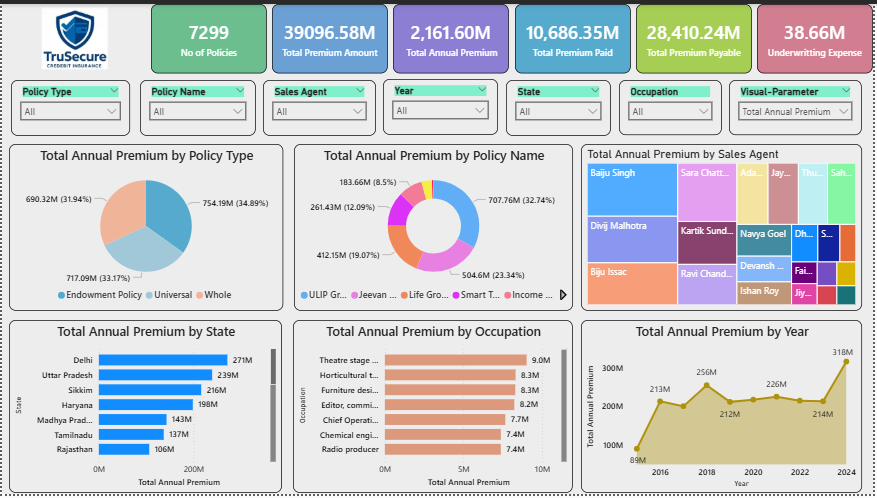

The dashboard page shown, as its layout file describes it:
{"tool":"powerbi","page":{"name":"Insurence Overview","canvas":[1280,720],"ordinal":1},"visuals":[{"type":"card","fields":{"Values":["DM Customer_Detail_Table.Customer ID"]},"box":[218.3,0,170,101.7],"z":0},{"type":"card","fields":{"Values":["FCT Insurance_Policy_Table.Total Annual Premium"]},"box":[575,0,170,101.7],"z":1000},{"type":"card","fields":{"Values":["FCT Insurance_Policy_Table.Total Premium Amount"]},"box":[396.7,0,170,101.7],"z":2000},{"type":"card","fields":{"Values":["FCT Insurance_Policy_Table.Total Premium Paid"]},"box":[753.3,0,170,101.7],"z":3000},{"type":"card","fields":{"Values":["FCT Insurance_Policy_Table.Total Premium Payable"]},"box":[931.7,0,170,101.7],"z":4000},{"type":"card","fields":{"Values":["FCT Insurance_Policy_Table.Underwritting Expense"]},"box":[1110,0,170,101.7],"z":5000},{"type":"slicer","fields":{"Values":["DM Policy_Protection_Plan.Policy Name"]},"box":[202.8,111.7,170.4,82.3],"z":6000},{"type":"slicer","fields":{"Values":["DM Policy_Type.Policy Type"]},"box":[13.2,111.7,174.9,82.3],"z":7000},{"type":"slicer","fields":{"Values":["FCT Insurance_Policy_Table.Start Date.Variation.Date Hierarchy.Year"]},"box":[559.8,110.2,169,82.3],"z":8000},{"type":"slicer","fields":{"Values":["DM Insurance_Agent_Table.Sales Agent"]},"box":[383.5,111.7,166,82.3],"z":9000},{"type":"slicer","fields":{"Values":["DM Customer_Detail_Table.State"]},"box":[740.6,111.7,154.3,82.3],"z":10000},{"type":"slicer","fields":{"Values":["DM Customer_Detail_Table.Occupation"]},"box":[906.6,111.7,151.3,80.8],"z":11000},{"type":"image","box":[10.3,0,194,101.4],"z":12000},{"type":"pieChart","title":"Total Annual Premium by Policy Type","fields":{"Y":["FCT Insurance_Policy_Table.Total Annual_Premium"],"Category":["DM Policy_Type.Policy Type"]},"box":[10.3,205.7,402.6,245.4],"z":13000},{"type":"donutChart","title":"Total Annual Premium by Policy Name","fields":{"Y":["FCT Insurance_Policy_Table.Total Annual_Premium"],"Category":["DM Policy_Protection_Plan.Policy Name"]},"box":[429.1,205.7,410,245.4],"z":14000},{"type":"treemap","title":"Total Annual Premium by Sales Agent","fields":{"Values":["FCT Insurance_Policy_Table.Total Annual_Premium"],"Group":["DM Insurance_Agent_Table.Sales Agent"]},"box":[850.8,205.7,412.9,245.4],"z":15000},{"type":"barChart","title":"Total Annual Premium by State","fields":{"Y":["FCT Insurance_Policy_Table.Total Annual_Premium"],"Category":["DM Customer_Detail_Table.State"]},"box":[10.3,464.3,401.1,254.2],"z":16000},{"type":"barChart","title":"Total Annual Premium by Occupation","fields":{"Y":["FCT Insurance_Policy_Table.Total Annual_Premium"],"Category":["DM Customer_Detail_Table.Occupation"]},"box":[427.6,464.3,411.4,254.2],"z":17000},{"type":"areaChart","title":"Total Annual Premium by Year","fields":{"Y":["FCT Insurance_Policy_Table.Total Annual_Premium"],"Category":["FCT Insurance_Policy_Table.Start Date.Variation.Date Hierarchy.Year","FCT Insurance_Policy_Table.Start Date.Variation.Date Hierarchy.Quarter","FCT Insurance_Policy_Table.Start Date.Variation.Date Hierarchy.Month","FCT Insurance_Policy_Table.Start Date.Variation.Date Hierarchy.Day"]},"box":[850.8,464.3,412.9,254.2],"z":18000},{"type":"slicer","fields":{"Values":["Visual-Parameter.Visual-Parameter"]},"box":[1068.2,111.7,195.4,80.8],"z":19000}]}

Visuals, with their boxes in screenshot pixels (x1, y1, x2, y2), scaled from the page's 1280x720 canvas onto the 877x498 screenshot:
card - DM Customer_Detail_Table.Customer ID: region(150, 0, 266, 70)
card - FCT Insurance_Policy_Table.Total Annual Premium: region(394, 0, 510, 70)
card - FCT Insurance_Policy_Table.Total Premium Amount: region(272, 0, 388, 70)
card - FCT Insurance_Policy_Table.Total Premium Paid: region(516, 0, 633, 70)
card - FCT Insurance_Policy_Table.Total Premium Payable: region(638, 0, 755, 70)
card - FCT Insurance_Policy_Table.Underwritting Expense: region(761, 0, 876, 70)
slicer - DM Policy_Protection_Plan.Policy Name: region(139, 77, 256, 134)
slicer - DM Policy_Type.Policy Type: region(9, 77, 129, 134)
slicer - FCT Insurance_Policy_Table.Start Date.Variation.Date Hierarchy.Year: region(384, 76, 499, 133)
slicer - DM Insurance_Agent_Table.Sales Agent: region(263, 77, 376, 134)
slicer - DM Customer_Detail_Table.State: region(507, 77, 613, 134)
slicer - DM Customer_Detail_Table.Occupation: region(621, 77, 725, 133)
image: region(7, 0, 140, 70)
"Total Annual Premium by Policy Type" pieChart: region(7, 142, 283, 312)
"Total Annual Premium by Policy Name" donutChart: region(294, 142, 575, 312)
"Total Annual Premium by Sales Agent" treemap: region(583, 142, 866, 312)
"Total Annual Premium by State" barChart: region(7, 321, 282, 497)
"Total Annual Premium by Occupation" barChart: region(293, 321, 575, 497)
"Total Annual Premium by Year" areaChart: region(583, 321, 866, 497)
slicer - Visual-Parameter.Visual-Parameter: region(732, 77, 866, 133)
